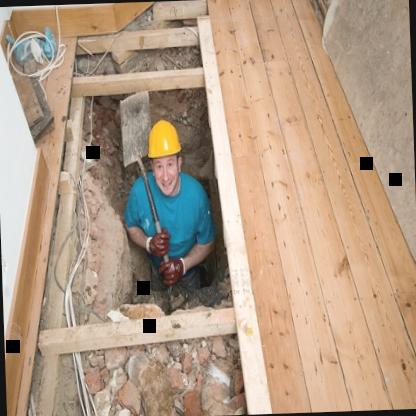helmet: (141, 109, 190, 195)
